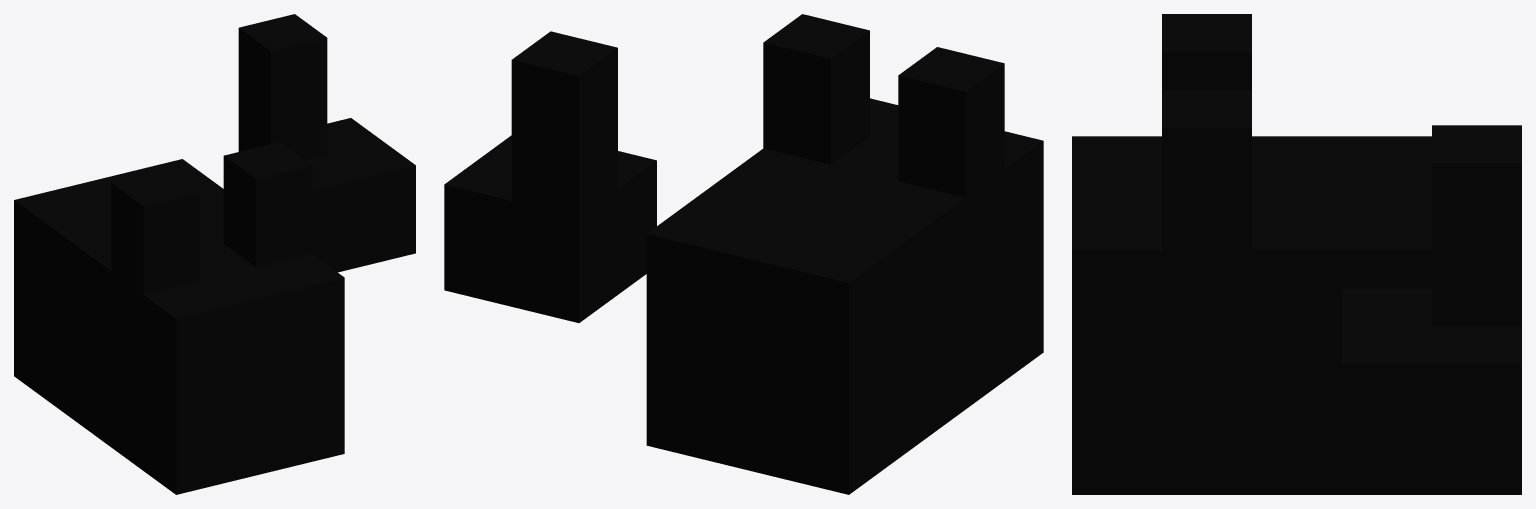
The model's file is fingore_nuhuh.glb.
The picture shows the model from 3 angles, left to right: view 1: azimuth 30°, elevation 25°; view 2: azimuth 150°, elevation 25°; view 3: azimuth 270°, elevation 25°; orthographic projection. The views are drawn at different scales.
Parts seen in each view (by area): view 1: cube (×5); view 2: cube (×5); view 3: cube (×5).
Part boxes in pixels (x1,y1,x2,y2): cube (×5): (14, 14, 415, 494); cube (×5): (444, 14, 1043, 494); cube (×5): (1072, 14, 1521, 494).
Size of the model in its own units: 12 by 10 by 10.
5 materials, 5 textured.
